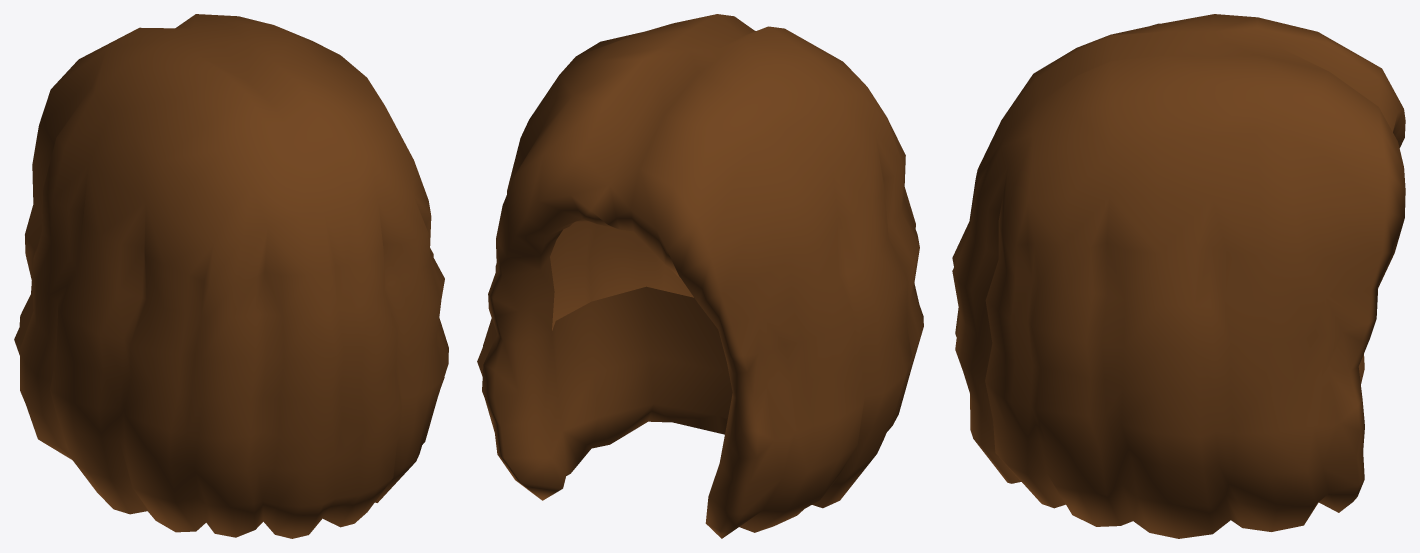
Rendered from Hair_Female_006.glb.
The picture shows the model from 3 angles, left to right: view 1: azimuth 30°, elevation 25°; view 2: azimuth 150°, elevation 25°; view 3: azimuth 270°, elevation 25°; orthographic projection. The views are drawn at different scales.
Parts seen in each view (by area): view 1: Hair_Female_006; view 2: Hair_Female_006; view 3: Hair_Female_006.
Part boxes in pixels (x1,y1,x2,y2): Hair_Female_006: (14,14,448,538); Hair_Female_006: (477,14,923,538); Hair_Female_006: (952,14,1405,538).
Size of the model in its own units: 0.2471 by 0.277 by 0.2597.
